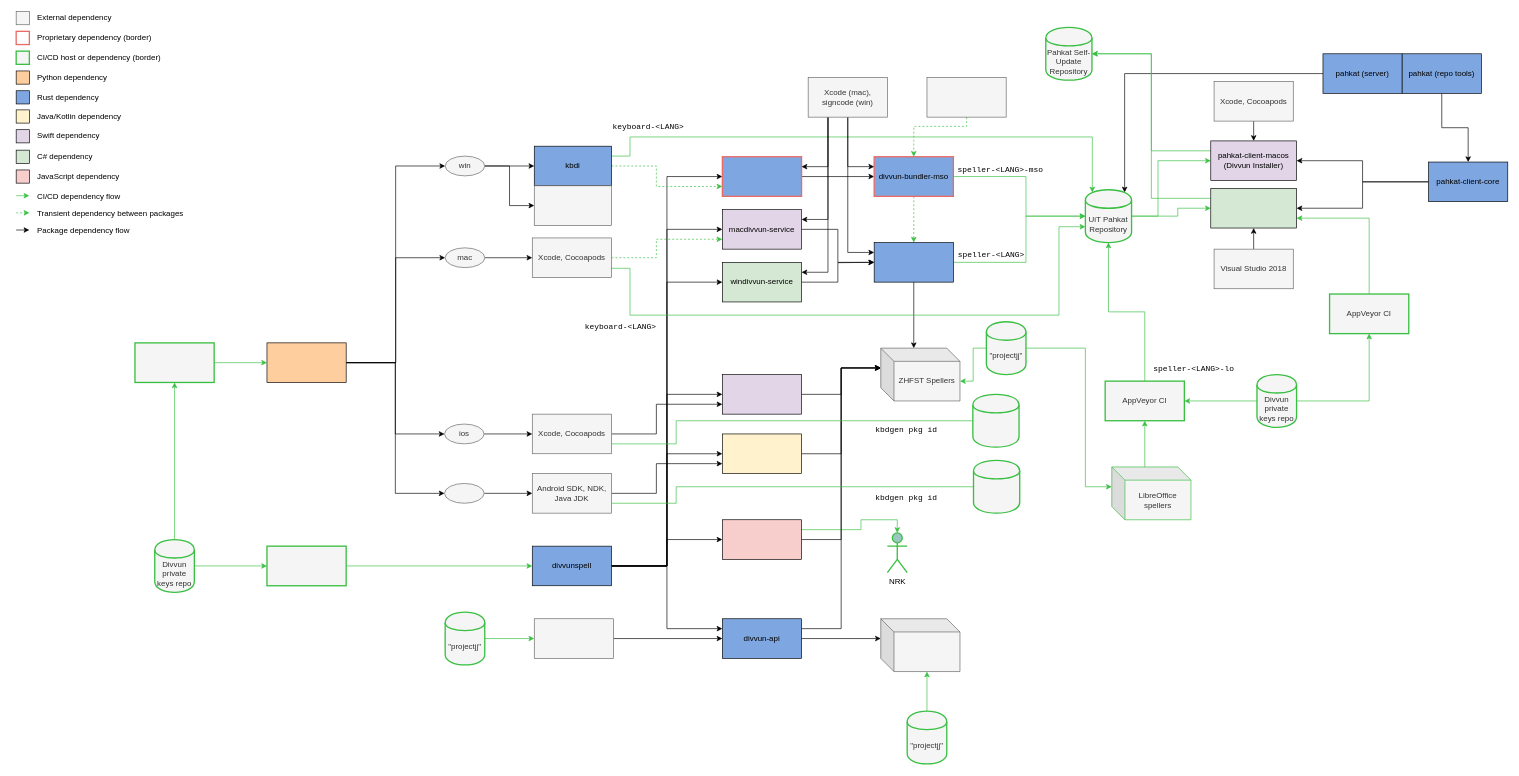
Image size: 1519x776. Some labels were removed from this diagram. The box of each missing label's shape, as (x1, y1, x2, y2) in pixels:
"zcheck" grammar pipelines: (880, 618, 960, 672)
android: (444, 483, 484, 503)
Azure DevOps Pipelines: (134, 342, 214, 383)
divvun-bundler: (874, 242, 953, 282)
divvunspell-mso: (721, 156, 802, 197)
divvunspell-nodejs: (722, 519, 802, 559)
giellakbd-android: (722, 433, 802, 474)
giellakbd-ios: (722, 374, 802, 414)
Google Play: (973, 459, 1020, 513)
Inno Setup (U), MSKLC 1.4, signcode, etc: (534, 185, 611, 225)
iOS App Store: (972, 393, 1019, 447)
kbdgen: (266, 342, 346, 382)
libdivvun (for grammar checking): (534, 618, 613, 658)
Microsoft Office: (926, 77, 1006, 117)
pahkat-client-windows (Divvun Installer): (1210, 188, 1297, 228)
Travis CI: (266, 545, 346, 586)
